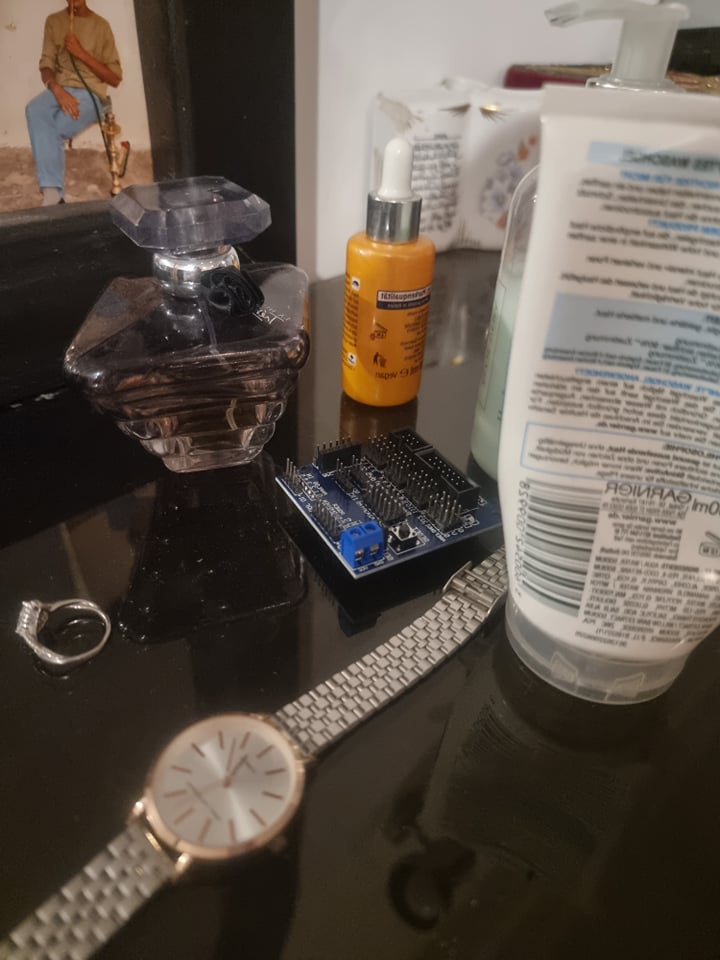SENSOR: (274, 418, 507, 579)
